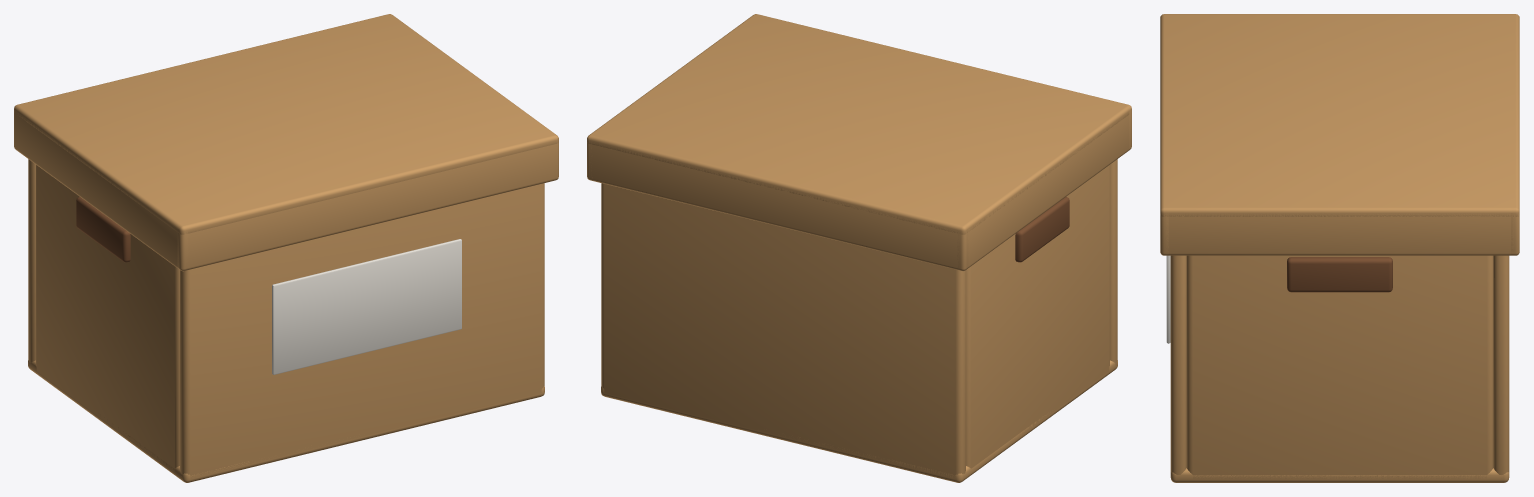
File: caixa_arquivo.glb
The picture shows the model from 3 angles, left to right: view 1: azimuth 30°, elevation 25°; view 2: azimuth 150°, elevation 25°; view 3: azimuth 270°, elevation 25°; orthographic projection. The views are drawn at different scales.
Visible parts, largest first — view 1: Cube.012, Cube.001, Cube.003, caixa_face, Cube.013, Cube.015, Cube, Cube.004, Cube.002; view 2: Cube.002, Cube.012, Cube.003, Cube.014, Cube.015, Cube, Cube.004, Cube.001; view 3: Cube.012, Cube.005, Cube.016, Cube.006, Cube.002, Cube.001, Cube, caixa_face.
Boxes of the visible parts, bbox=[...] form: Cube.012: bbox=[14, 14, 558, 234]; Cube.001: bbox=[180, 183, 544, 478]; Cube.003: bbox=[36, 165, 179, 471]; caixa_face: bbox=[272, 239, 461, 374]; Cube.013: bbox=[177, 144, 558, 270]; Cube.015: bbox=[14, 109, 188, 271]; Cube: bbox=[28, 360, 544, 482]; Cube.004: bbox=[76, 197, 130, 262]; Cube.002: bbox=[28, 159, 35, 365]; Cube.002: bbox=[601, 183, 965, 478]; Cube.012: bbox=[587, 14, 1131, 234]; Cube.003: bbox=[966, 165, 1109, 468]; Cube.014: bbox=[587, 139, 968, 271]; Cube.015: bbox=[957, 112, 1131, 271]; Cube: bbox=[601, 360, 1117, 482]; Cube.004: bbox=[1015, 197, 1069, 262]; Cube.001: bbox=[1110, 159, 1117, 366]; Cube.012: bbox=[1160, 14, 1519, 216]; Cube.005: bbox=[1186, 255, 1493, 478]; Cube.016: bbox=[1160, 210, 1519, 255]; Cube.006: bbox=[1287, 257, 1392, 292]; Cube.002: bbox=[1493, 255, 1509, 478]; Cube.001: bbox=[1170, 255, 1186, 474]; Cube: bbox=[1170, 468, 1509, 482]; caixa_face: bbox=[1166, 255, 1170, 343].
Size of the model in its own units: 0.44 by 0.292 by 0.34.
